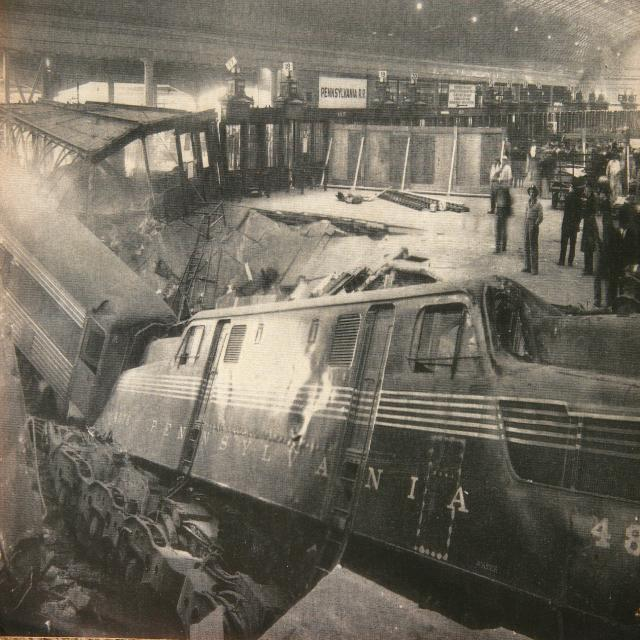body: (508, 129, 606, 177), (605, 218, 640, 310), (586, 200, 612, 310), (555, 176, 582, 268), (579, 181, 600, 278), (522, 184, 544, 275), (492, 178, 512, 256), (621, 137, 639, 195), (486, 154, 503, 215), (607, 154, 621, 204), (498, 154, 513, 193), (606, 135, 620, 150)
